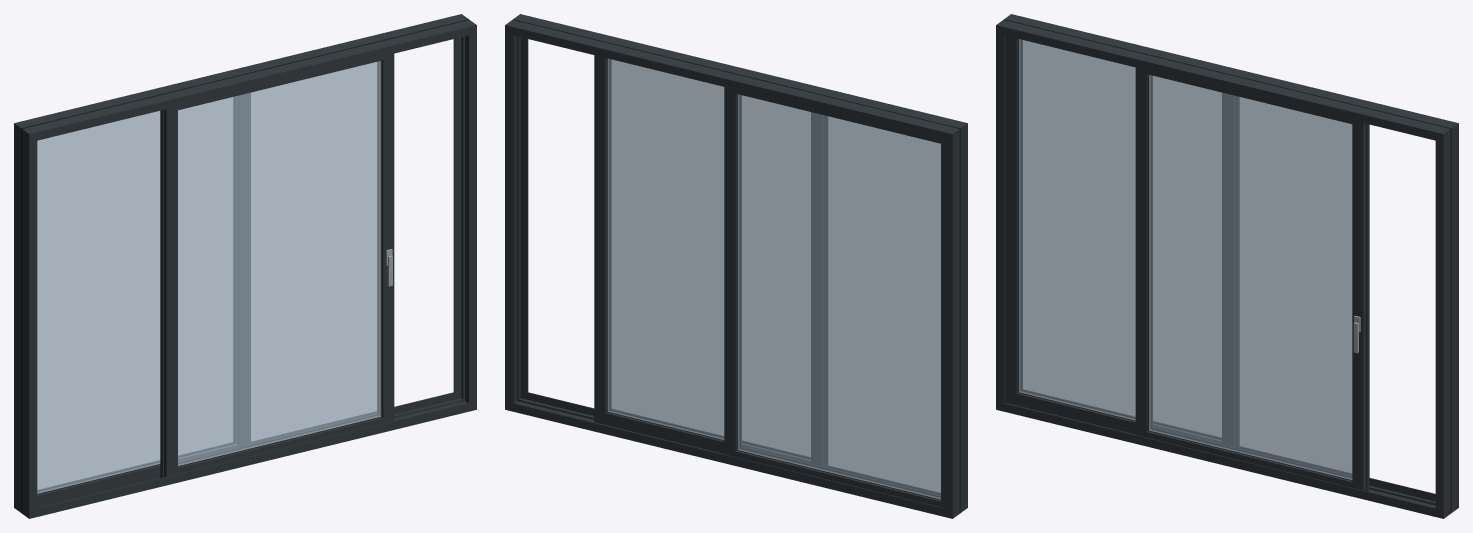
File: conceptpatio-68.glb
3 views of the same model, side by side, from view 1: azimuth 30°, elevation 25°; view 2: azimuth 150°, elevation 25°; view 3: azimuth 330°, elevation 25° (orthographic).
Parts seen in each view (by area): view 1: ConceptPatio 68; view 2: ConceptPatio 68; view 3: ConceptPatio 68.
Part boxes in pixels (left/top/right/bottom): ConceptPatio 68: left=14, top=14, right=476, bottom=518; ConceptPatio 68: left=505, top=14, right=967, bottom=518; ConceptPatio 68: left=996, top=14, right=1458, bottom=518.
Size of the model in its own units: 2.8 by 2.3 by 0.1767.
